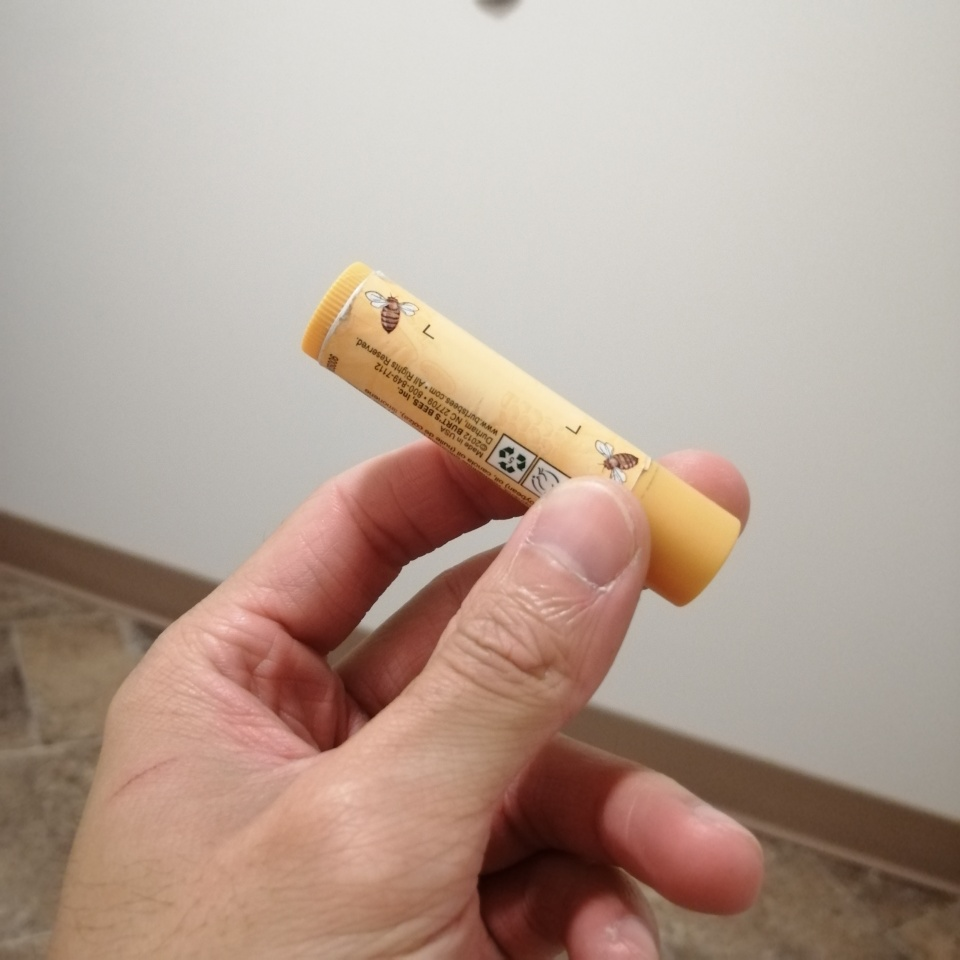chapstick: (301, 258, 746, 609)
